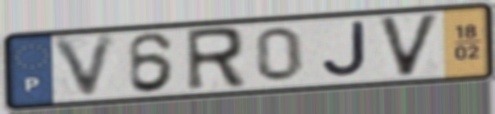0: (253, 25, 308, 85)
6: (125, 30, 175, 95)
J: (319, 19, 370, 81)
R: (182, 24, 249, 94)
V: (48, 30, 122, 103), (375, 11, 444, 81)
